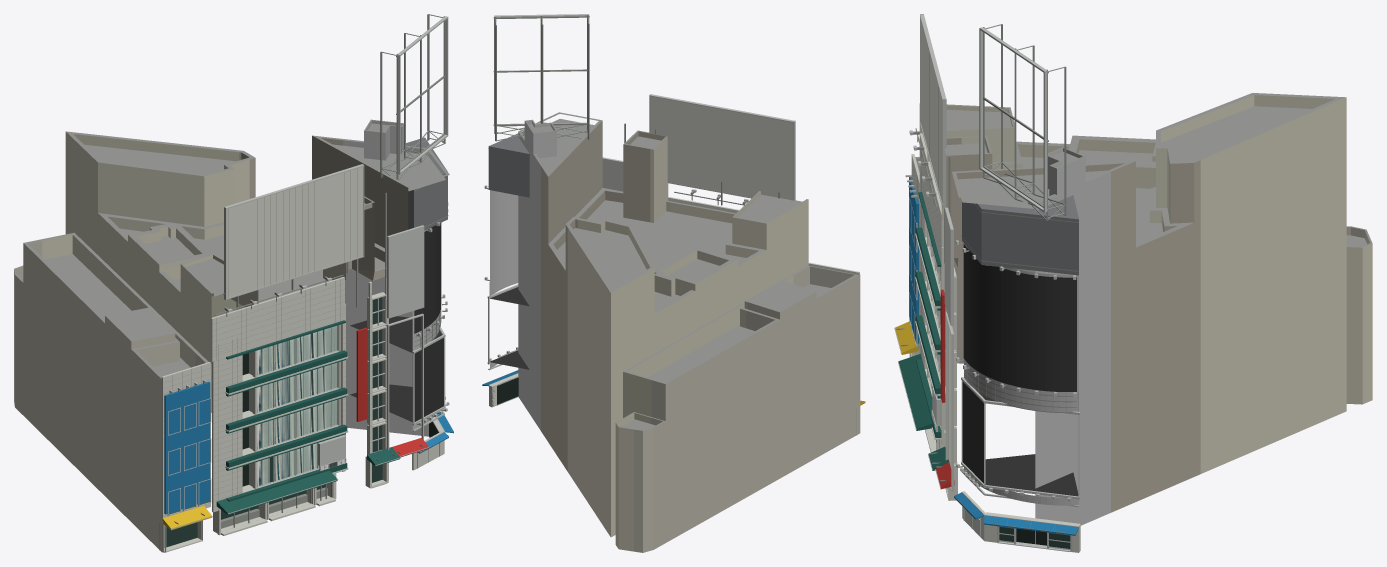
The model's file is west-block.glb.
3 renders of one model, left to right at view 1: azimuth 30°, elevation 25°; view 2: azimuth 150°, elevation 25°; view 3: azimuth 270°, elevation 25°, orthographic. The views are drawn at different scales.
Visible parts, largest first — view 1: west_tile_trim, west_wall_pharmacy, west_wall_fruit, west_roof, west_metal_edge, west_curtains, west_awning, west_book_awning, west_wall_corner_body, west_screen_back, west_wall_middle, west_frame (+6 smaller); view 2: west_wall_pharmacy, west_wall_fruit, west_roof, west_wall_middle, west_tile_trim, west_wall_corner_body, west_metal_edge, west_frame, west_housing, west_screen_back; view 3: west_wall_fruit, west_wall_middle, west_wall_corner_body, west_screen_back, west_roof, west_metal_edge, west_tile_trim, west_housing, west_frame, west_awning, west_book_awning, west_wall_corner (+2 smaller).
Part boxes in pixels (<box>): west_tile_trim: <box>159,166,452,552</box>; west_wall_pharmacy: <box>14,241,205,552</box>; west_wall_fruit: <box>22,132,345,412</box>; west_roof: <box>14,119,449,378</box>; west_metal_edge: <box>165,16,449,552</box>; west_curtains: <box>257,325,337,486</box>; west_awning: <box>216,320,400,514</box>; west_book_awning: <box>164,381,453,514</box>; west_wall_corner_body: <box>341,120,440,436</box>; west_screen_back: <box>350,223,443,421</box>; west_wall_middle: <box>236,135,408,424</box>; west_frame: <box>169,14,448,528</box>; west_wall_pharmacy: <box>634,266,860,552</box>; west_wall_fruit: <box>567,137,808,551</box>; west_roof: <box>518,112,858,430</box>; west_wall_middle: <box>541,121,665,471</box>; west_tile_trim: <box>482,96,859,435</box>; west_wall_corner_body: <box>490,120,556,430</box>; west_metal_edge: <box>484,14,865,405</box>; west_frame: <box>486,15,779,379</box>; west_housing: <box>488,122,546,197</box>; west_screen_back: <box>489,287,529,369</box>; west_wall_fruit: <box>919,95,1372,473</box>; west_wall_middle: <box>946,138,1200,512</box>; west_wall_corner_body: <box>964,148,1110,544</box>; west_screen_back: <box>962,244,1078,496</box>; west_roof: <box>915,93,1372,247</box>; west_metal_edge: <box>894,14,1080,551</box>; west_tile_trim: <box>911,20,1080,552</box>; west_housing: <box>962,195,1078,275</box>; west_frame: <box>896,24,1078,549</box>; west_awning: <box>898,192,948,470</box>; west_book_awning: <box>909,177,1078,535</box>; west_wall_corner: <box>936,289,954,489</box>.
Bounding box in the file's own units: 34.72 × 40.01 × 35.55.
21 materials, 1 textured.
